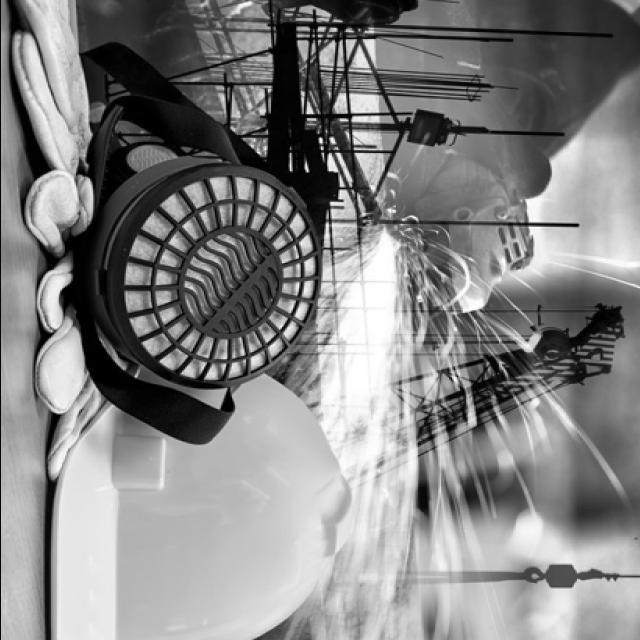safety_helmet: (44, 374, 351, 640)
